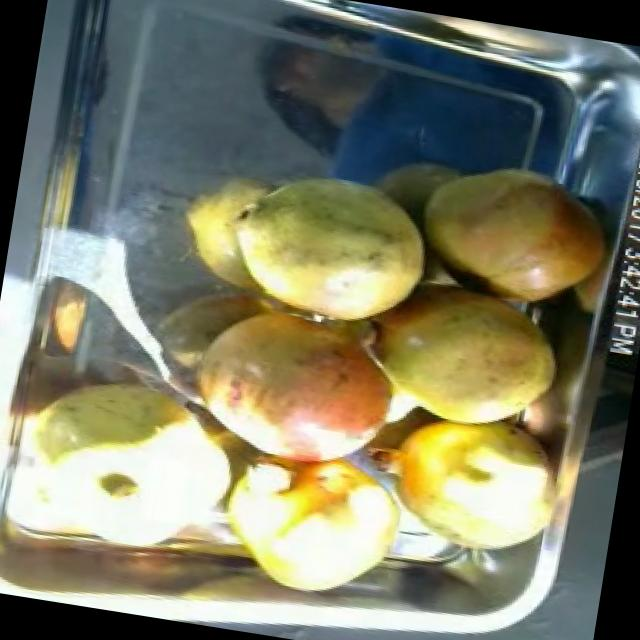fruit: (2, 349, 272, 575), (150, 283, 422, 486), (205, 144, 451, 352), (344, 386, 583, 584), (200, 427, 428, 622), (350, 268, 580, 452), (400, 148, 626, 324)
